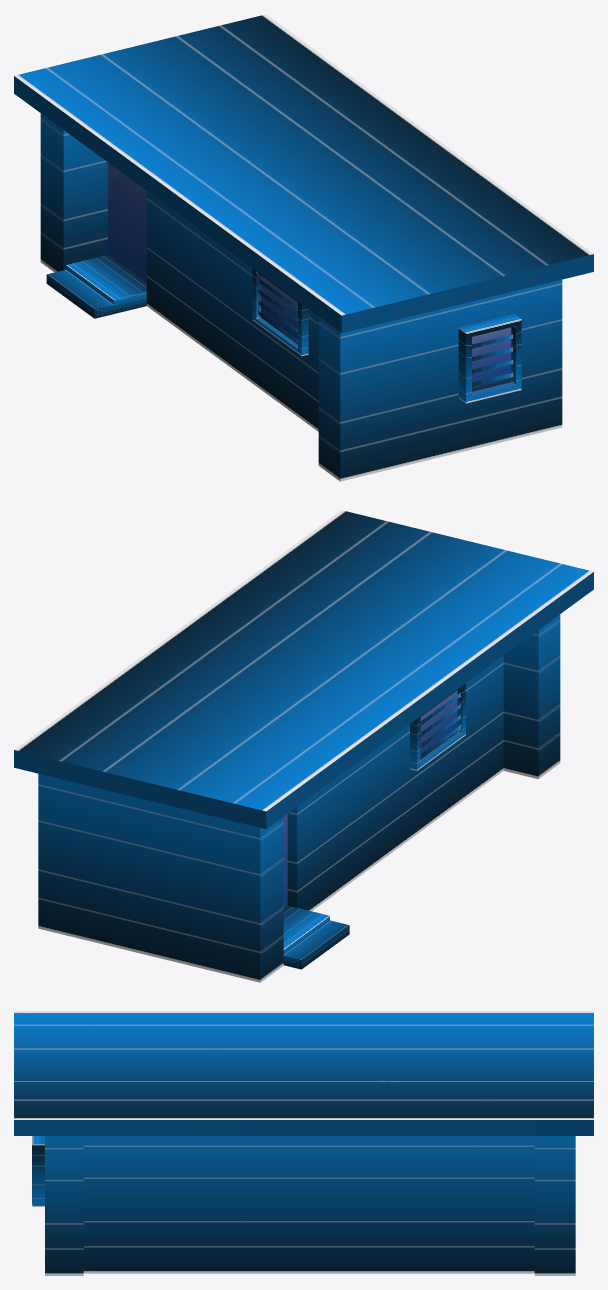
File: khfl.gltf
3 views of the same model, one above another, from view 1: azimuth 30°, elevation 25°; view 2: azimuth 150°, elevation 25°; view 3: azimuth 270°, elevation 25° (orthographic). The views are drawn at different scales.
Bounding box in the file's own units: 293 × 202 × 655.
2 materials, 2 textured.
